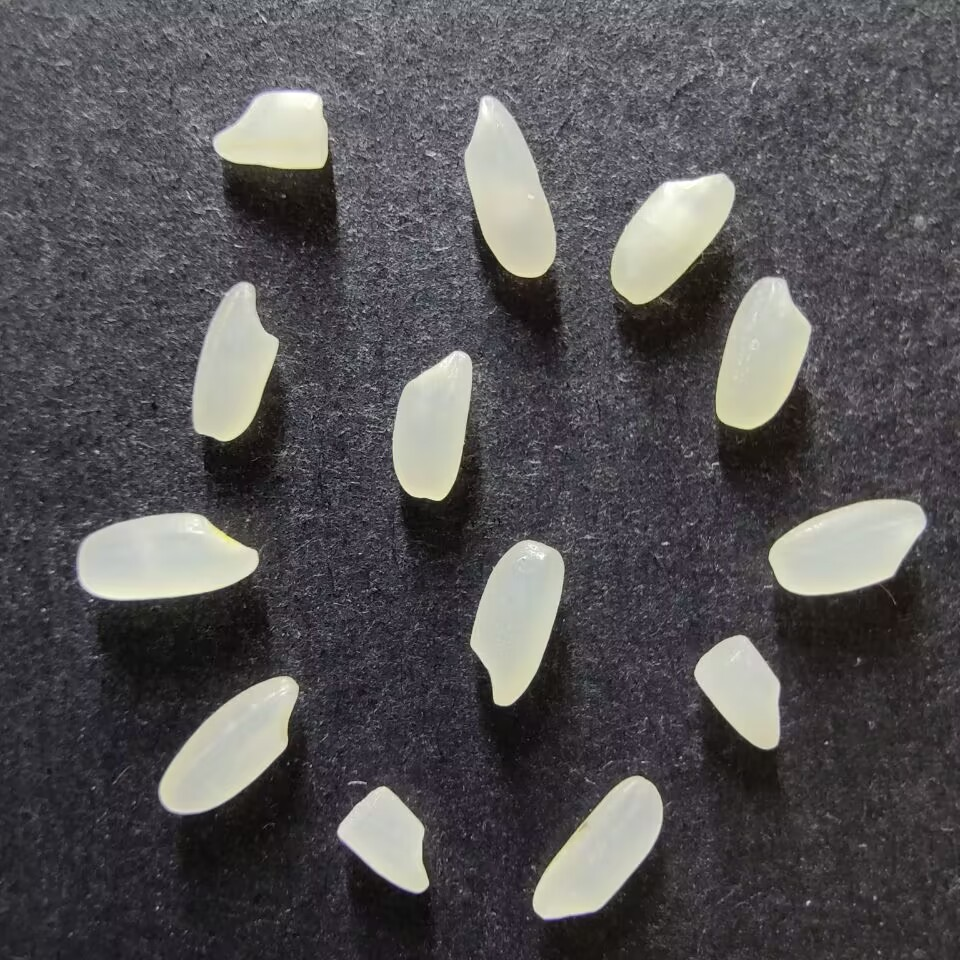broken: (335, 784, 430, 894), (692, 634, 782, 750), (211, 90, 329, 169)
rice: (157, 676, 299, 814), (531, 775, 663, 919), (462, 95, 556, 278), (609, 173, 734, 306), (468, 540, 564, 707), (76, 513, 258, 600), (767, 498, 927, 596), (714, 276, 812, 430), (191, 280, 278, 442), (391, 349, 472, 501)
